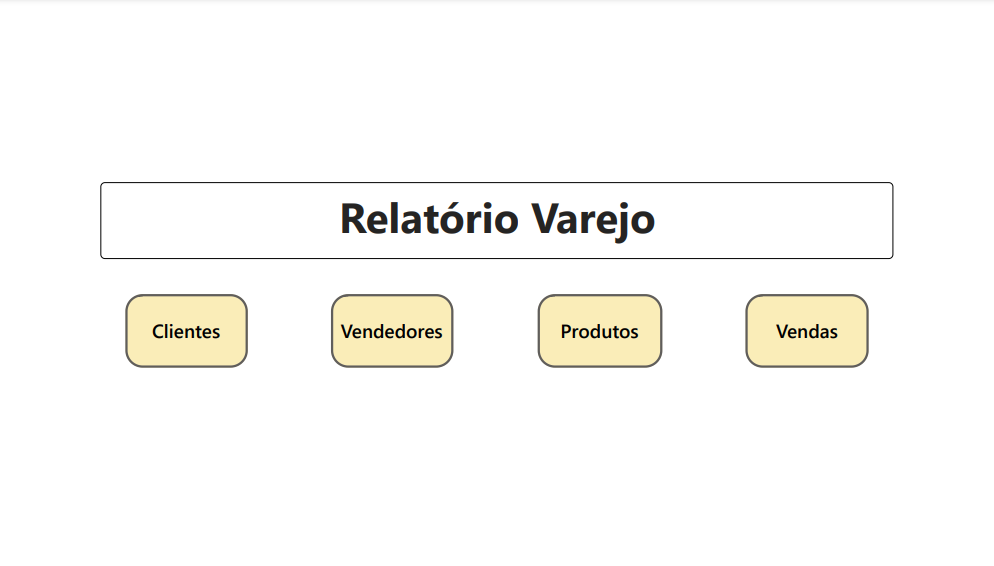

The dashboard page shown, as its layout file describes it:
{"tool":"powerbi","page":{"name":"Inicial","canvas":[1280,720],"ordinal":0},"visuals":[{"type":"actionButton","title":"Cliente","box":[145.4,369.8,162.7,97.9],"z":0,"group":"g1"},{"type":"textbox","box":[112.6,219.9,1054.9,102.6],"z":0},{"type":"actionButton","title":"Cliente","box":[419.5,369.8,162.7,97.9],"z":1000,"group":"g1"},{"type":"group","id":"g1","title":"Grupo 1","box":[145.4,369.8,989.3,97.9],"z":1000},{"type":"actionButton","title":"Cliente","box":[693.6,369.8,165.6,97.9],"z":2000,"group":"g1"},{"type":"actionButton","title":"Cliente","box":[970.5,369.8,164.2,97.9],"z":3000,"group":"g1"}]}

Visuals, with their boxes in screenshot pixels (x1, y1, x2, y2), scaled from the page's 1280x720 canvas onto the 994x566 screenshot:
"Cliente" actionButton: 113:291:239:368
textbox: 87:173:907:254
"Cliente" actionButton: 326:291:452:368
"Grupo 1" group: 113:291:881:368
"Cliente" actionButton: 539:291:667:368
"Cliente" actionButton: 754:291:881:368
